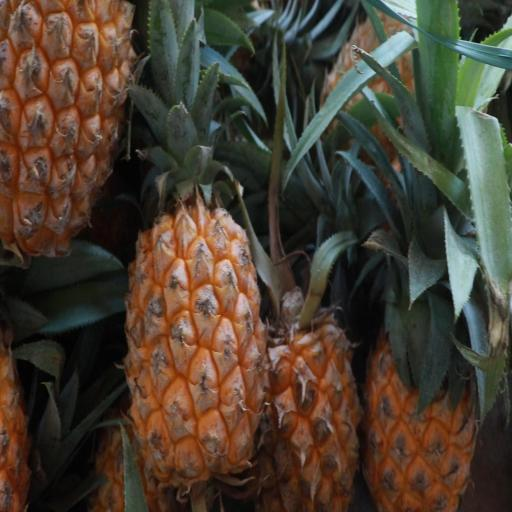Pineapple - v8 v1: (119, 132, 269, 493), (361, 187, 484, 512), (249, 251, 368, 511)
